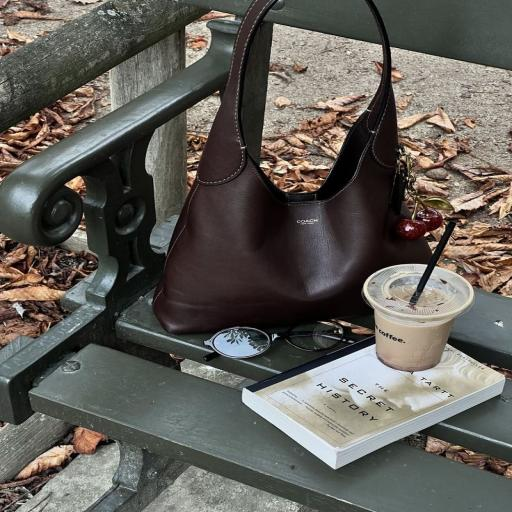bed: (243, 338, 505, 469)
door: (154, 0, 430, 334)
trash_bin: (0, 49, 512, 510)
